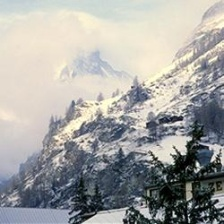neutral: (4, 2, 224, 220)
